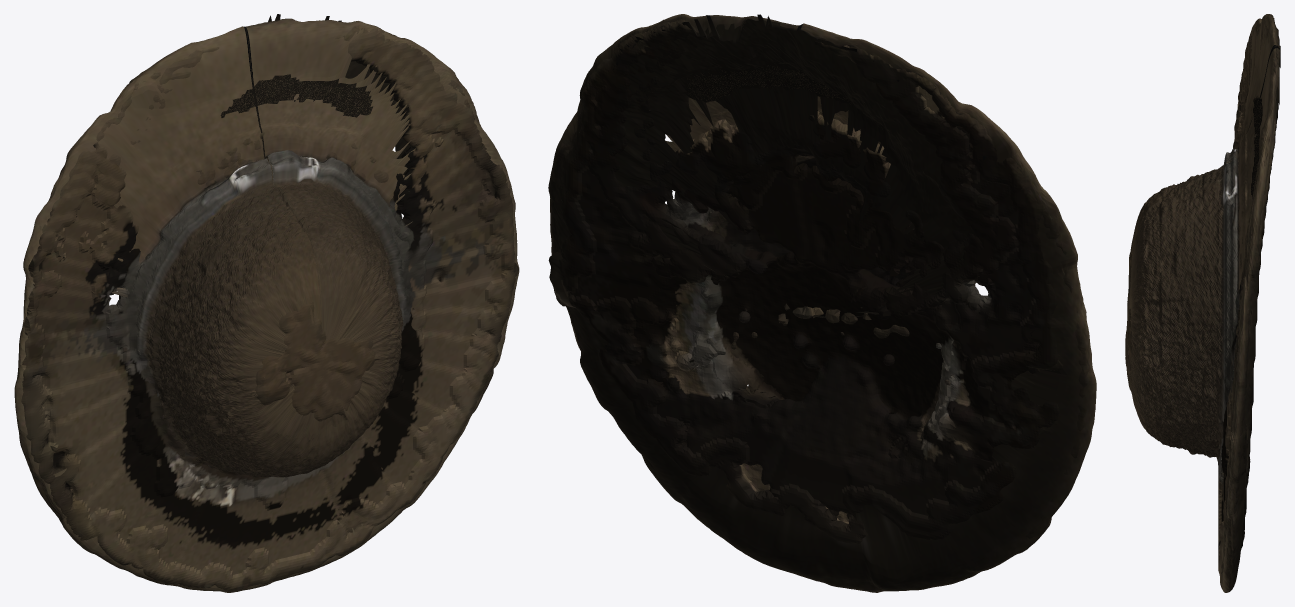
Rendered from mesh_inpaint.glb.
The picture shows the model from 3 angles, left to right: view 1: azimuth 30°, elevation 25°; view 2: azimuth 150°, elevation 25°; view 3: azimuth 270°, elevation 25°; orthographic projection. The views are drawn at different scales.
Parts seen in each view (by area): view 1: fill, ipn; view 2: fill, ipn; view 3: ipn, fill.
Part boxes in pixels (x1,y1,x2,y2): fill: [18, 26, 515, 591]; ipn: [14, 14, 519, 592]; fill: [551, 19, 1089, 592]; ipn: [548, 14, 1096, 592]; ipn: [1127, 14, 1280, 592]; fill: [1125, 16, 1276, 589].
Bounding box in the file's own units: 1.85 × 1.9 × 0.5106.
2 materials, 1 textured.
